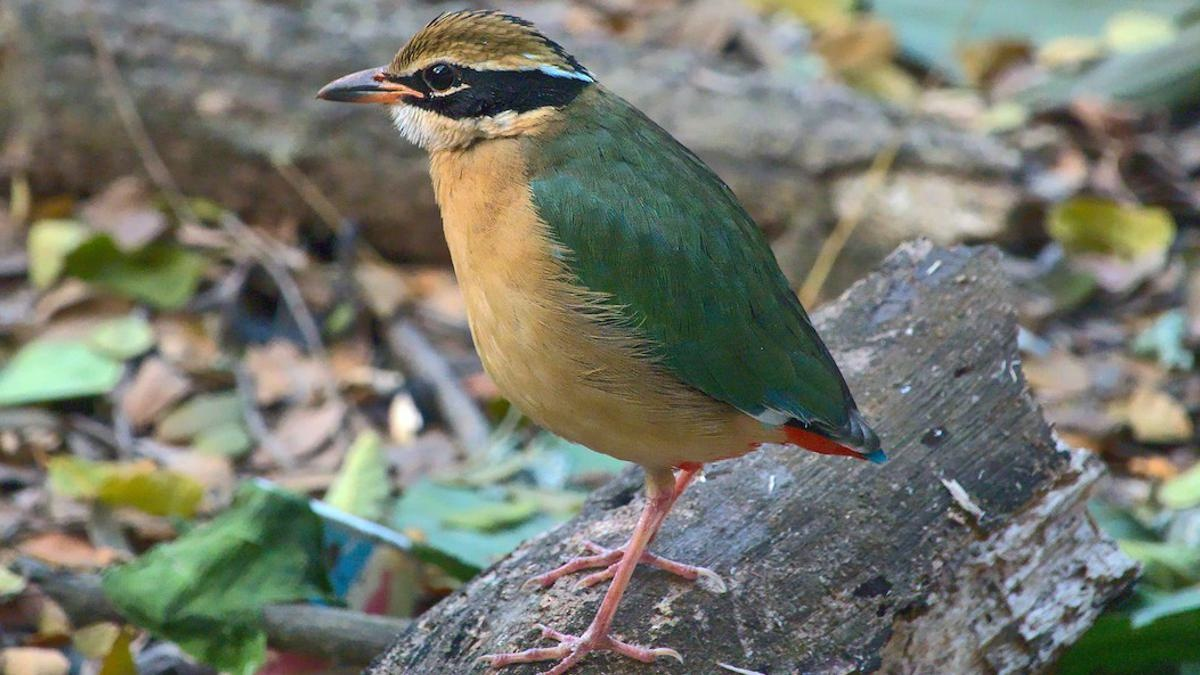pitta: (299, 3, 881, 675)
